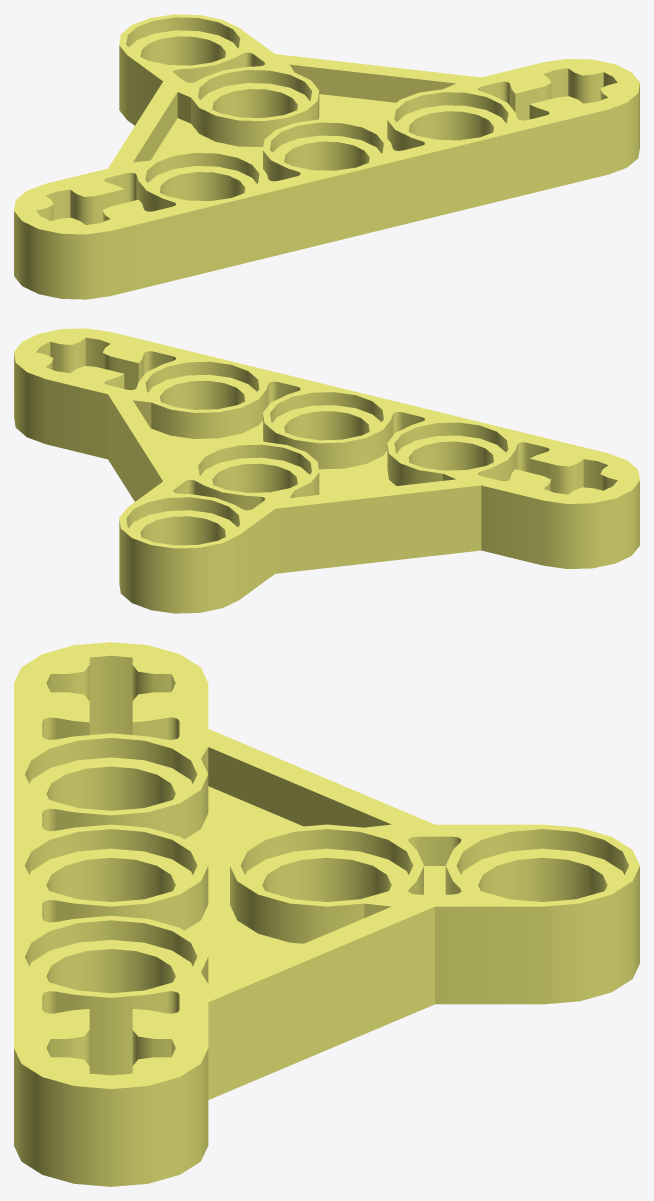
3 views of the same model, one above another, from view 1: azimuth 30°, elevation 25°; view 2: azimuth 150°, elevation 25°; view 3: azimuth 270°, elevation 25° (orthographic). The views are drawn at different scales.
Parts seen in each view (by area): view 1: 99773.dat; view 2: 99773.dat; view 3: 99773.dat.
Part boxes in pixels (left/top/right/bottom): 99773.dat: left=14, top=14, right=639, bottom=299; 99773.dat: left=14, top=328, right=639, bottom=613; 99773.dat: left=14, top=642, right=639, bottom=1186.
Size of the model in its own units: 0.0392 by 0.004 by 0.0232.
